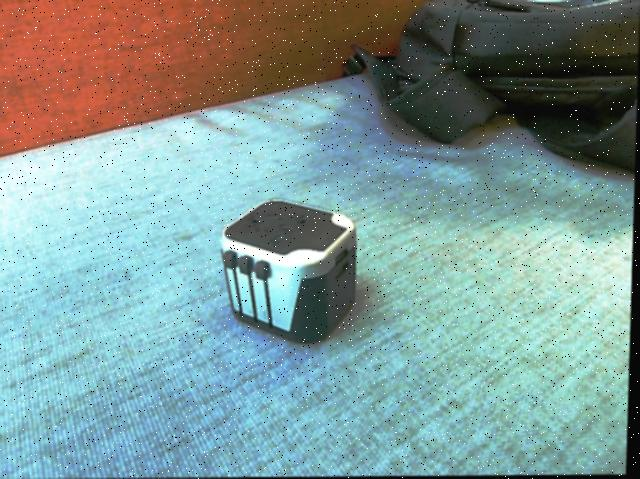adapter: (219, 197, 360, 345)
